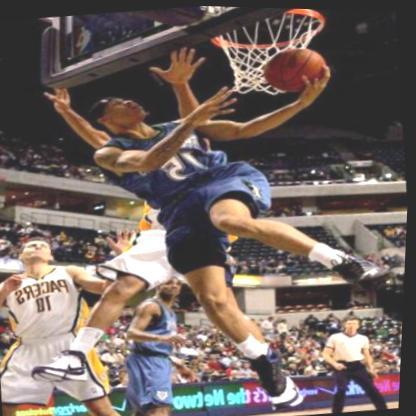basketball: (262, 43, 328, 93)
